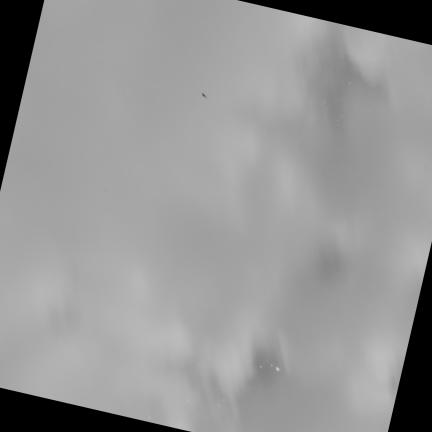Shahed: (202, 92, 207, 97)
